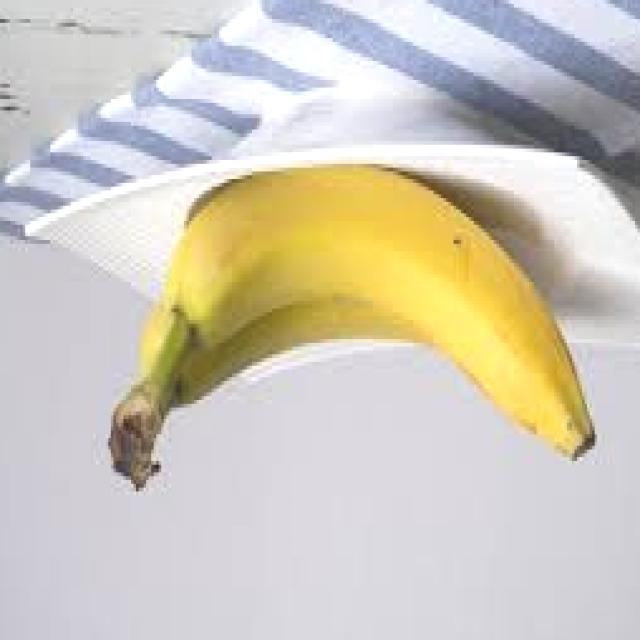pisang: (113, 177, 582, 500)
